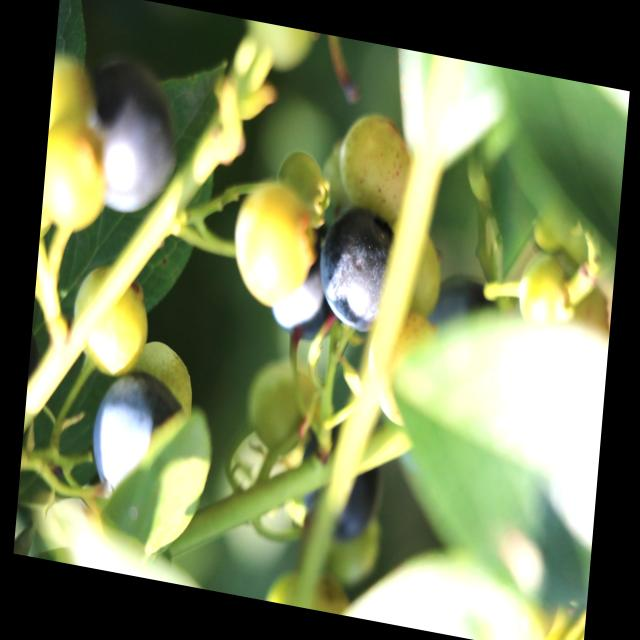blueberry: (80, 48, 178, 225), (87, 363, 191, 511), (417, 259, 508, 388), (316, 207, 396, 334), (299, 422, 381, 539), (268, 209, 338, 343)
blueberry-unripe: (229, 183, 318, 312), (68, 258, 154, 384), (334, 110, 416, 223), (40, 120, 114, 240), (518, 250, 574, 340)
